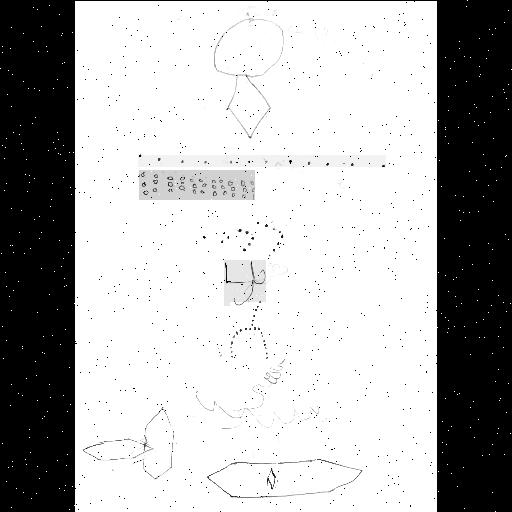shape-1: (214, 16, 284, 136)
shape-2: (138, 155, 386, 167)
shape-3: (139, 170, 255, 200)
shape-4: (202, 218, 284, 256)
shape-5: (224, 260, 266, 306)
shape-6: (230, 302, 268, 360)
shape-7: (195, 358, 321, 430)
shape-8: (82, 408, 176, 478)
shape-9: (206, 460, 360, 498)
